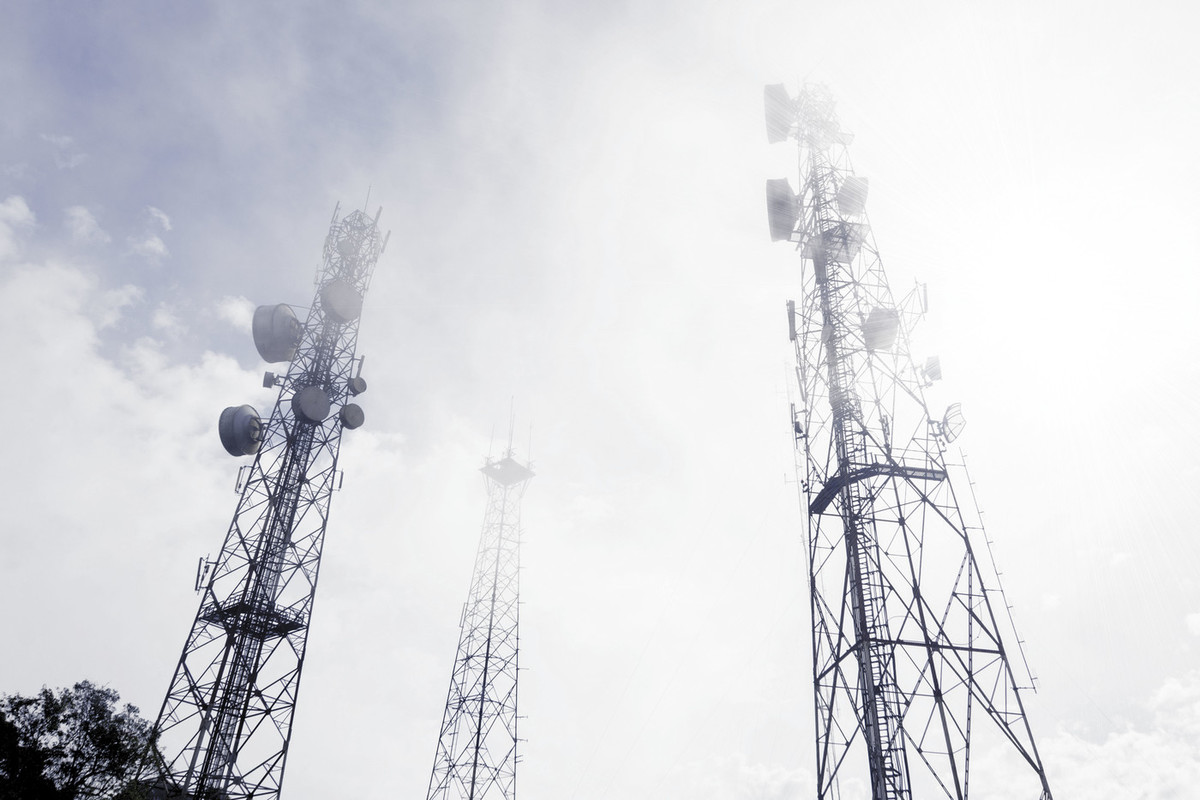ba: (249, 295, 328, 386), (213, 388, 269, 467), (749, 178, 804, 251), (287, 382, 335, 434)
